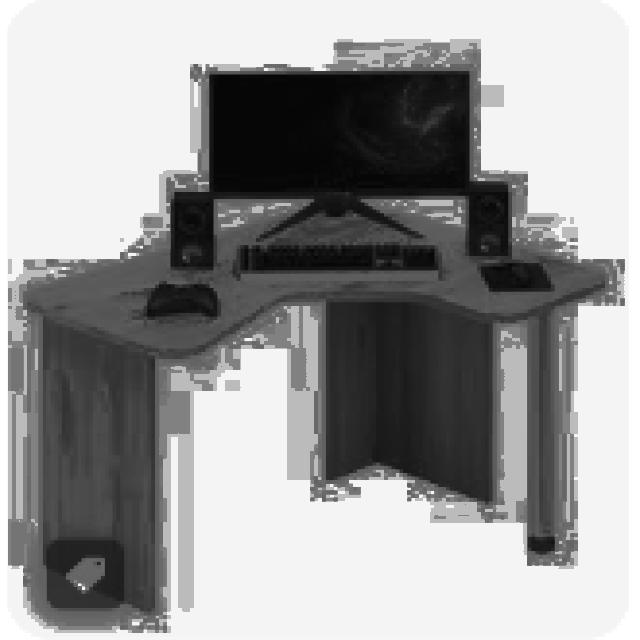table: (19, 203, 605, 612)
